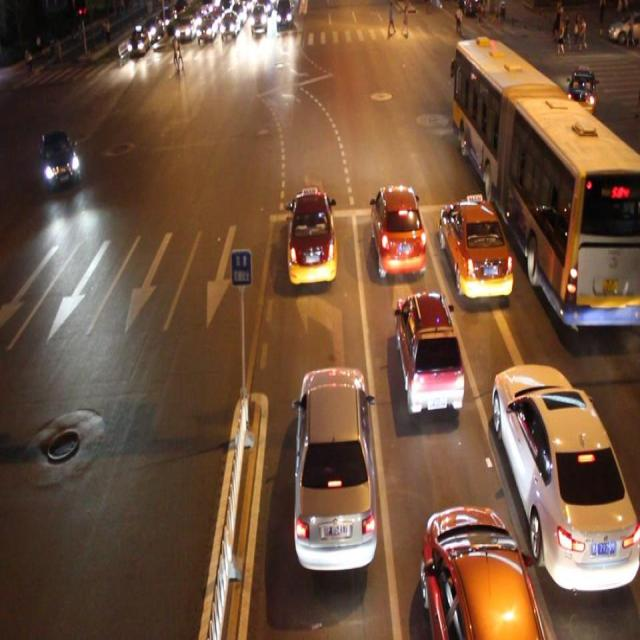car: (490, 355, 640, 598), (294, 363, 376, 571), (421, 506, 541, 640), (392, 293, 463, 411), (440, 193, 511, 302), (368, 180, 424, 276), (287, 190, 339, 286), (38, 130, 82, 185), (566, 64, 594, 110)
van: (451, 32, 640, 329)
